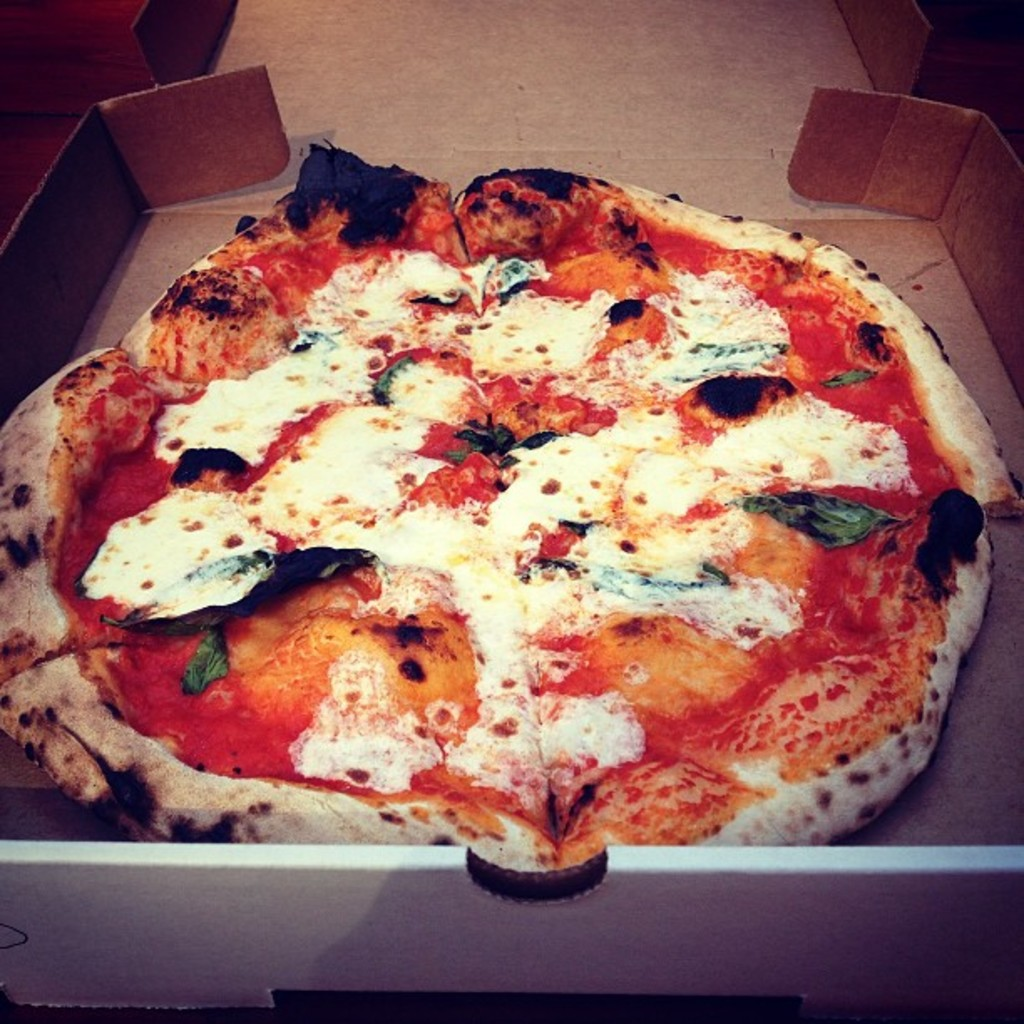Pizza: (0, 138, 1022, 843)
